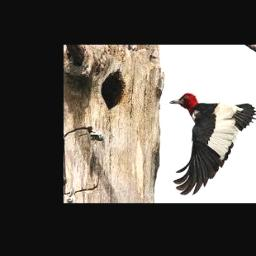Woodpecker: (170, 93, 256, 195)
